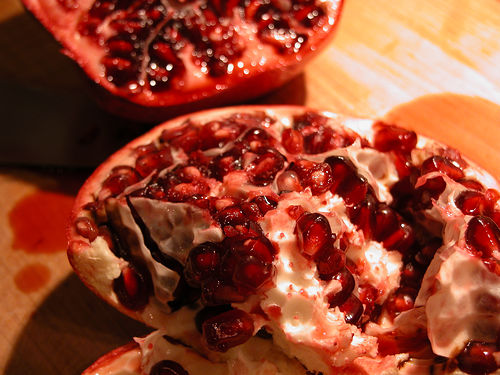pomogranate: (70, 104, 499, 374), (20, 0, 345, 103)
